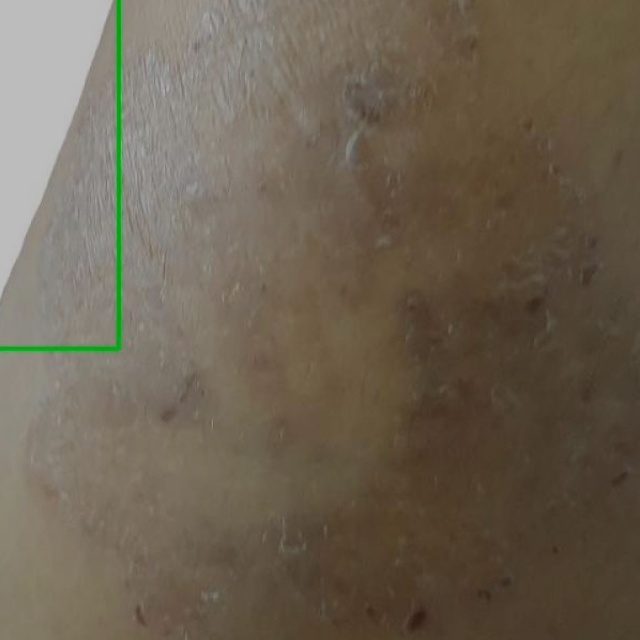Tinea Corporis: (0, 0, 118, 348)
